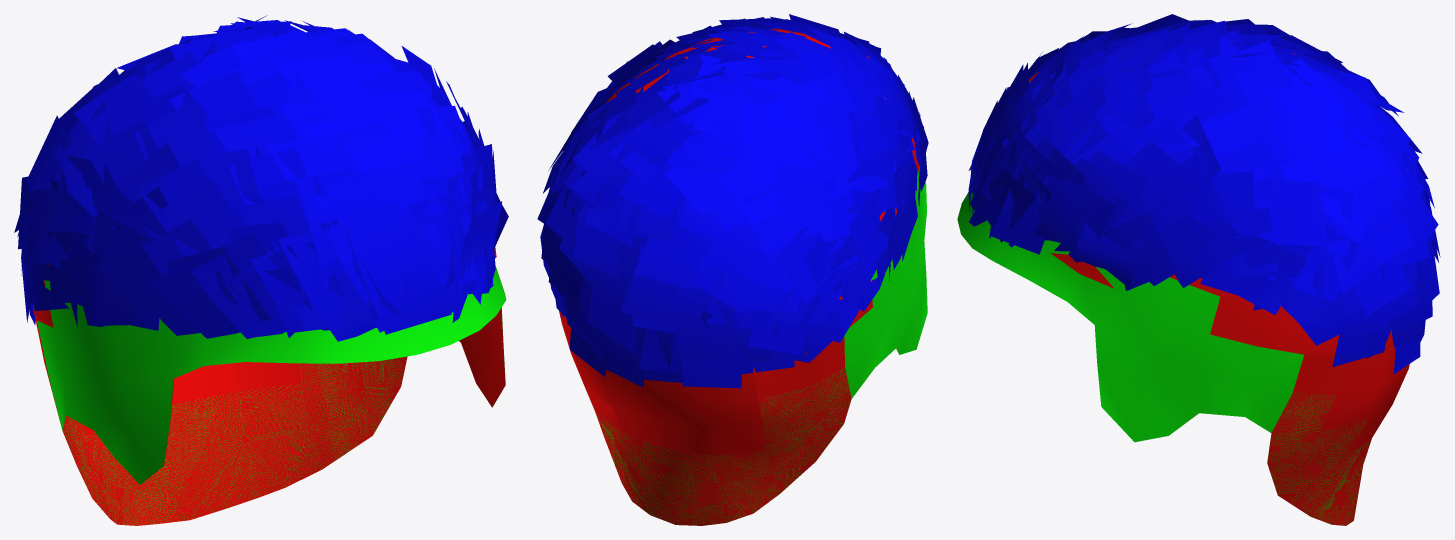
The model's file is hair_003.obj.
3 renders of one model, left to right at view 1: azimuth 30°, elevation 25°; view 2: azimuth 150°, elevation 25°; view 3: azimuth 270°, elevation 25°, orthographic. The views are drawn at different scales.
Size of the model in its own units: 16.57 by 21.25 by 19.74.
